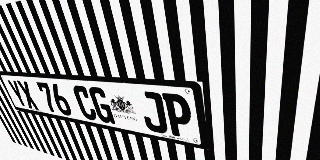6: (48, 83, 73, 117)
7: (35, 82, 60, 114)
C: (71, 85, 98, 121)
G: (87, 86, 116, 124)
J: (138, 91, 168, 134)
P: (162, 93, 194, 139)
X: (16, 80, 40, 110)
Y: (6, 79, 29, 108)
